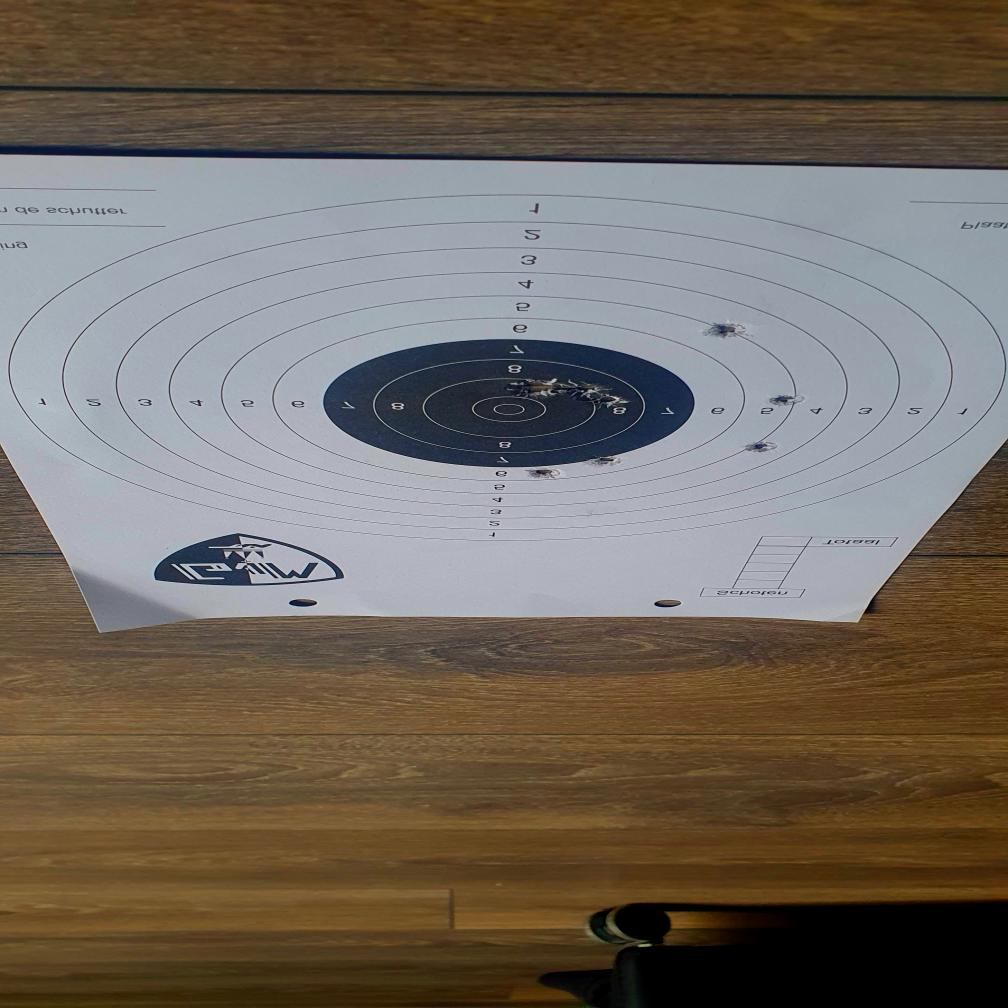5: (741, 439, 784, 457), (769, 393, 808, 410)
6: (703, 319, 753, 340), (525, 466, 564, 480)
7: (588, 455, 622, 469)
8: (594, 394, 625, 406)
9: (516, 388, 555, 398), (518, 378, 557, 388), (572, 382, 603, 393)
Target: (4, 193, 1008, 542)
black_contour: (324, 339, 696, 468)
